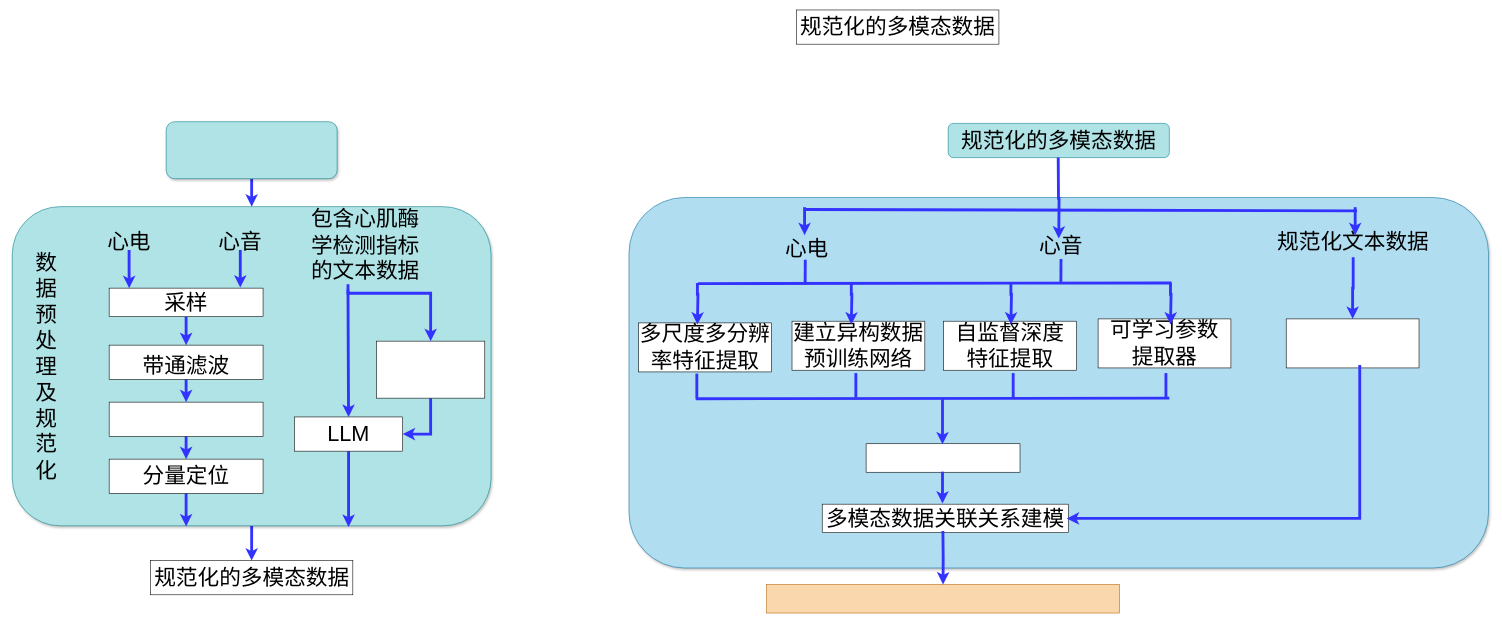
This 1502x623 diagram has some shape labels left out. Here are the shapes that lost their labels. From the top down, the centre of each, then its label:
(x=252, y=151): 多模态大数据
(x=1352, y=343): 医疗文本模型
(x=430, y=369): 医学实体检测模型
(x=186, y=419): 奇异值平滑
(x=943, y=457): 深度特征融合
(x=942, y=598): 实现多模态数据融合策略分类建模
